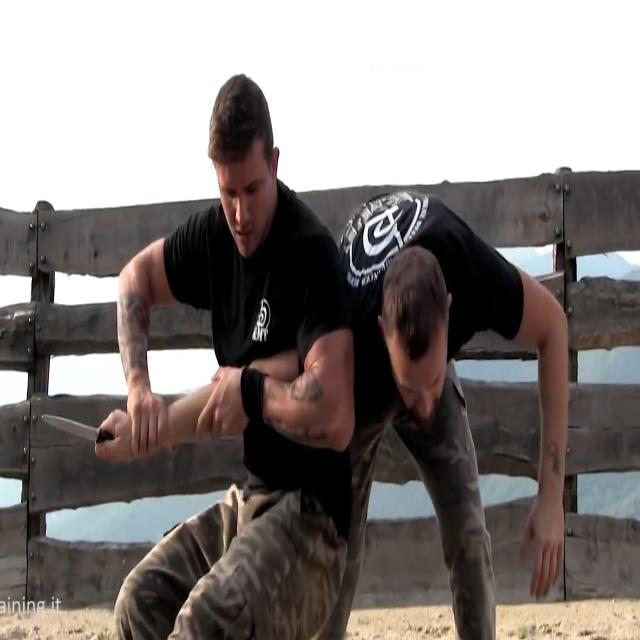knife: (40, 404, 114, 462)
